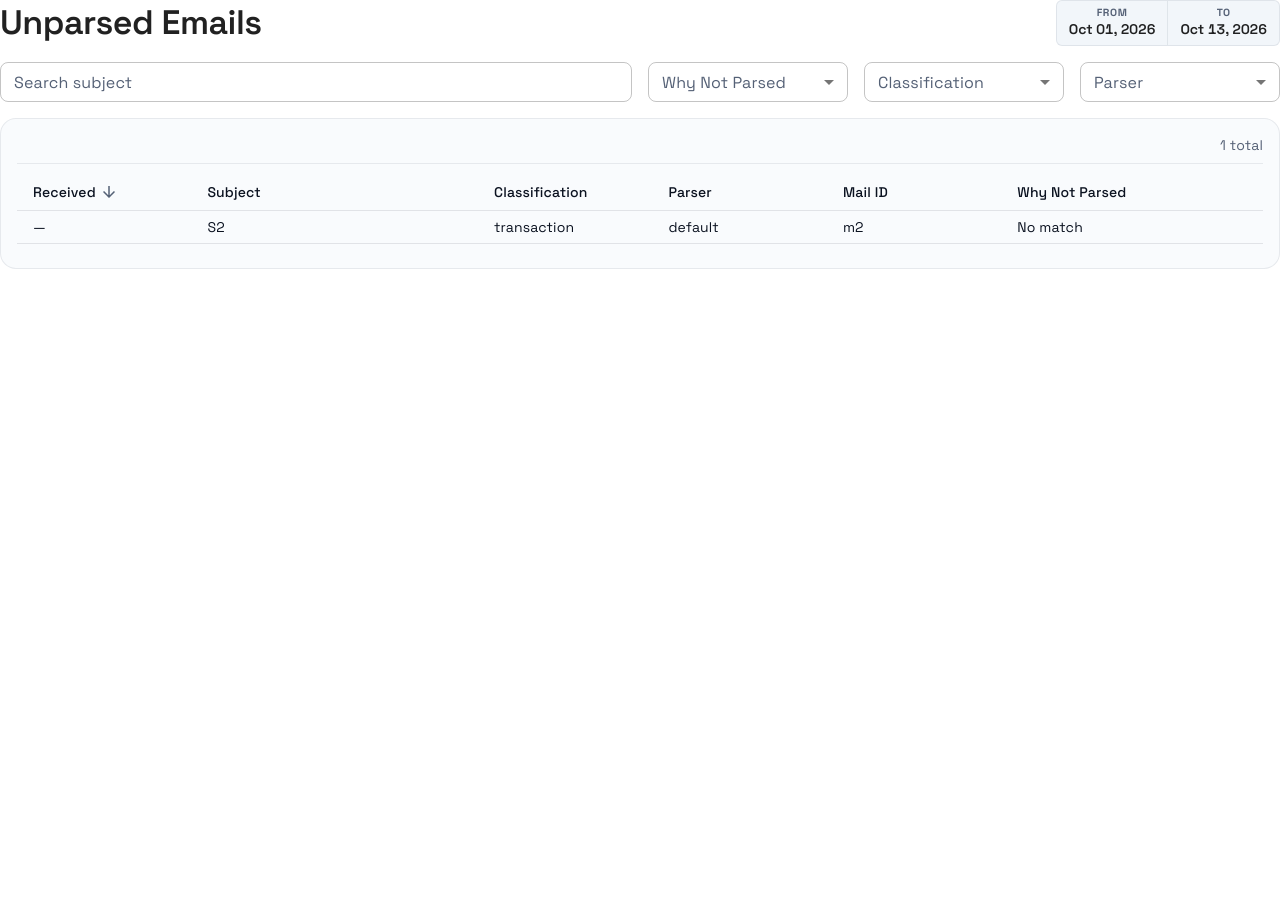
Test case: UnparsedEmails › includes returnTo in rules links and can reprocess
Expected: the text "m2" is shown, [827,210,1001,243]
Click the button with aria-label "View unparsed queue item 2" at (640, 227), box [17,210,1263,243]
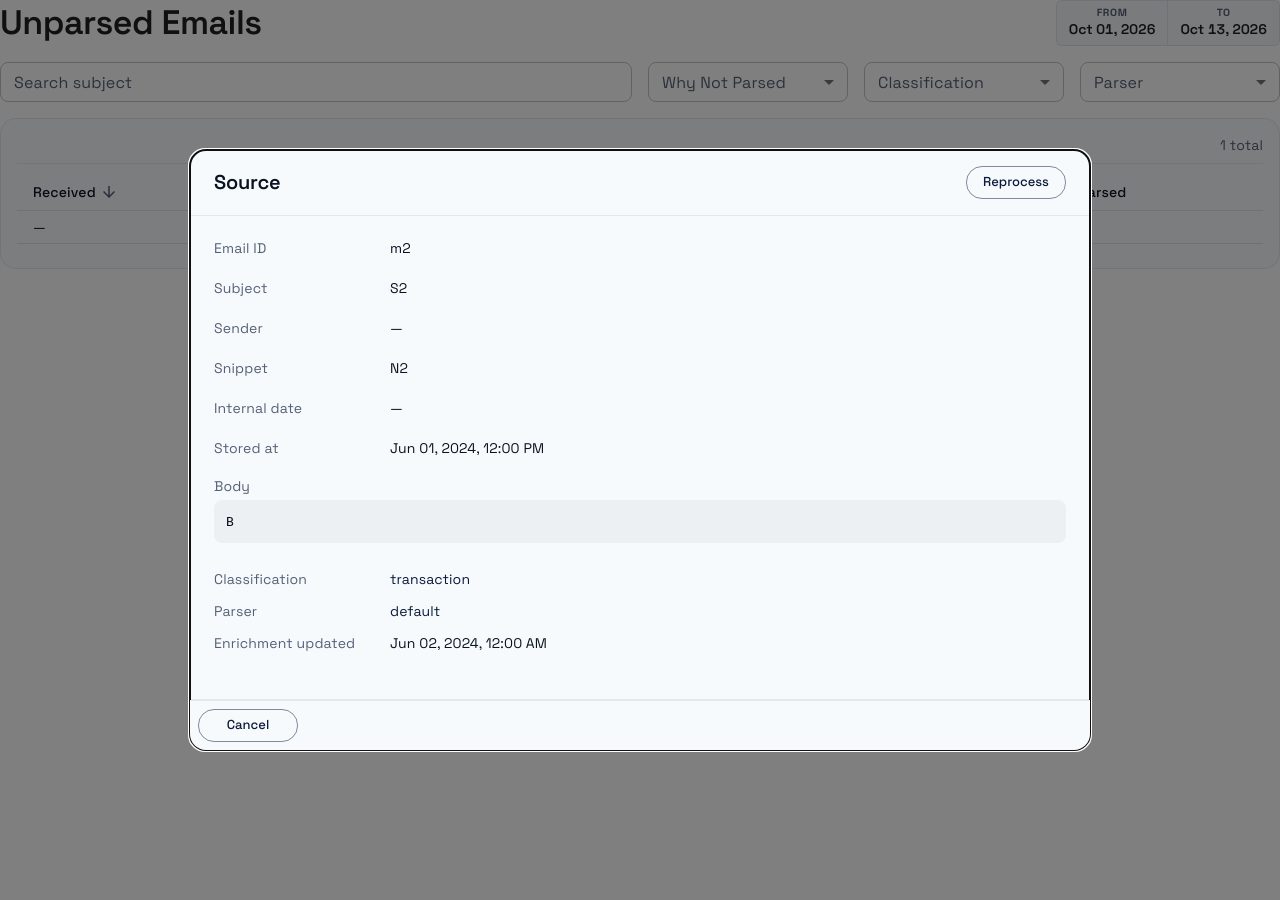
Click the button "Reprocess" at (1016, 182), box [966,166,1066,199]
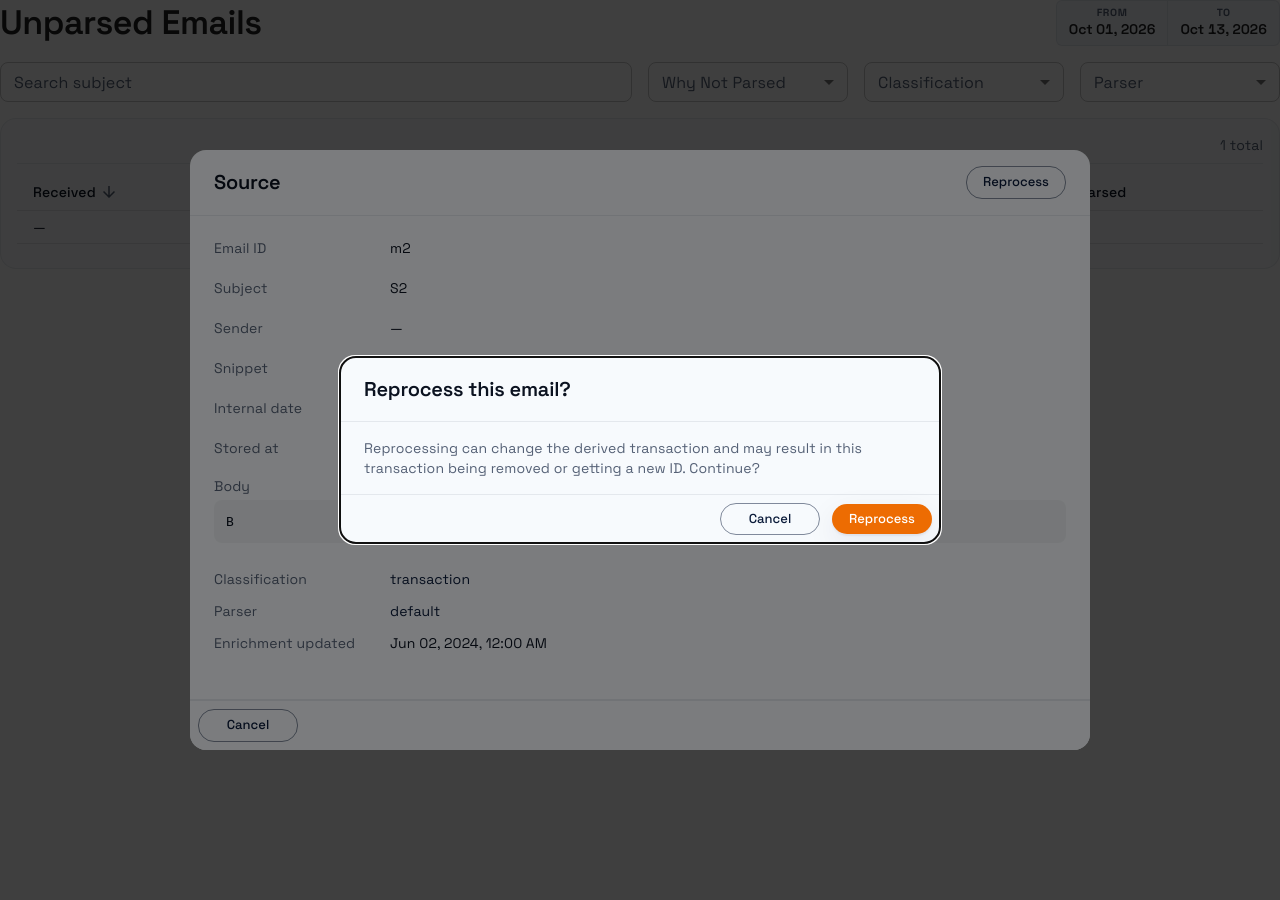
Expected: the heading "Reprocess this email?" is shown, [364,376,571,402]
Click the button "Reprocess" at (882, 519), box [832,504,932,534]
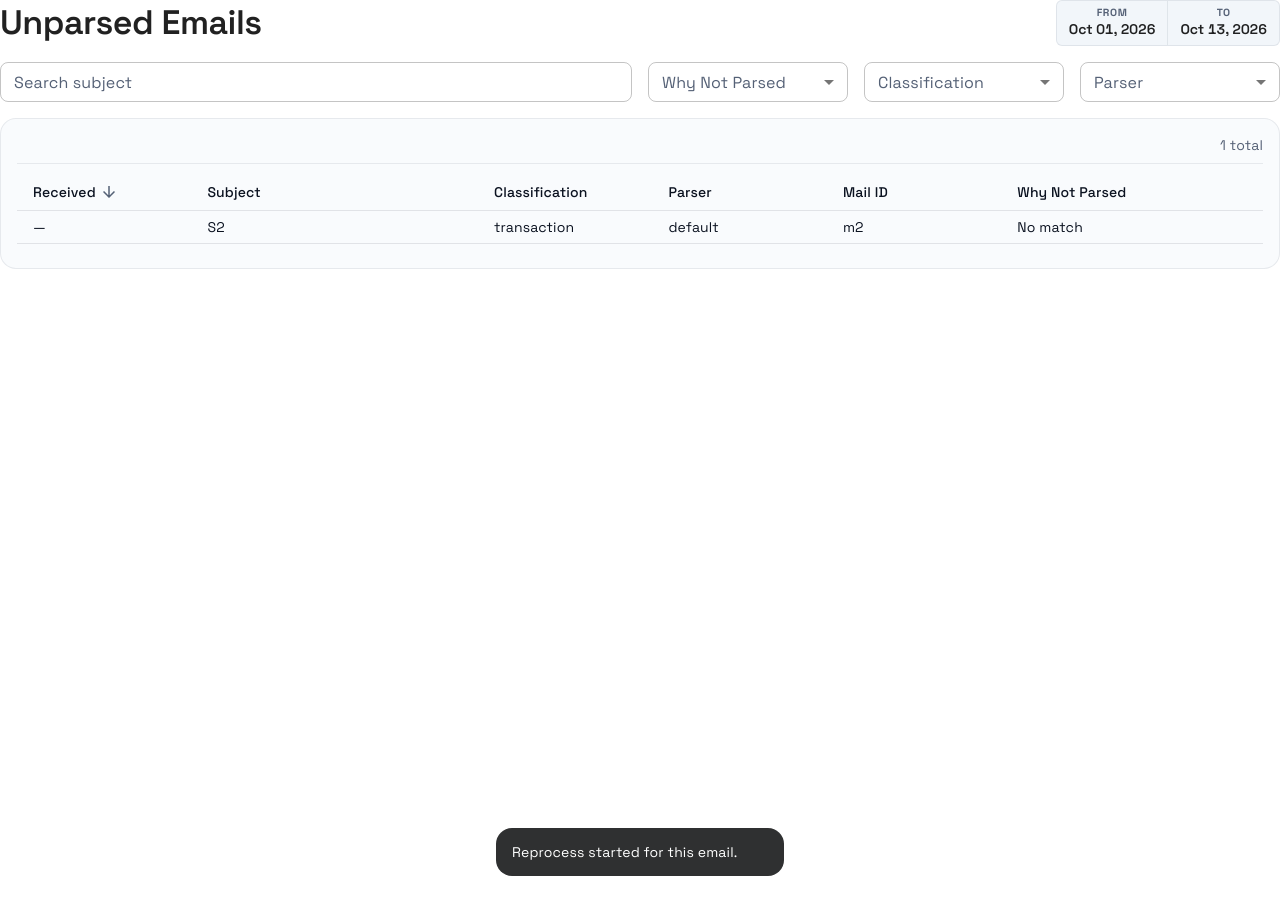
Expected: the dialog is gone
